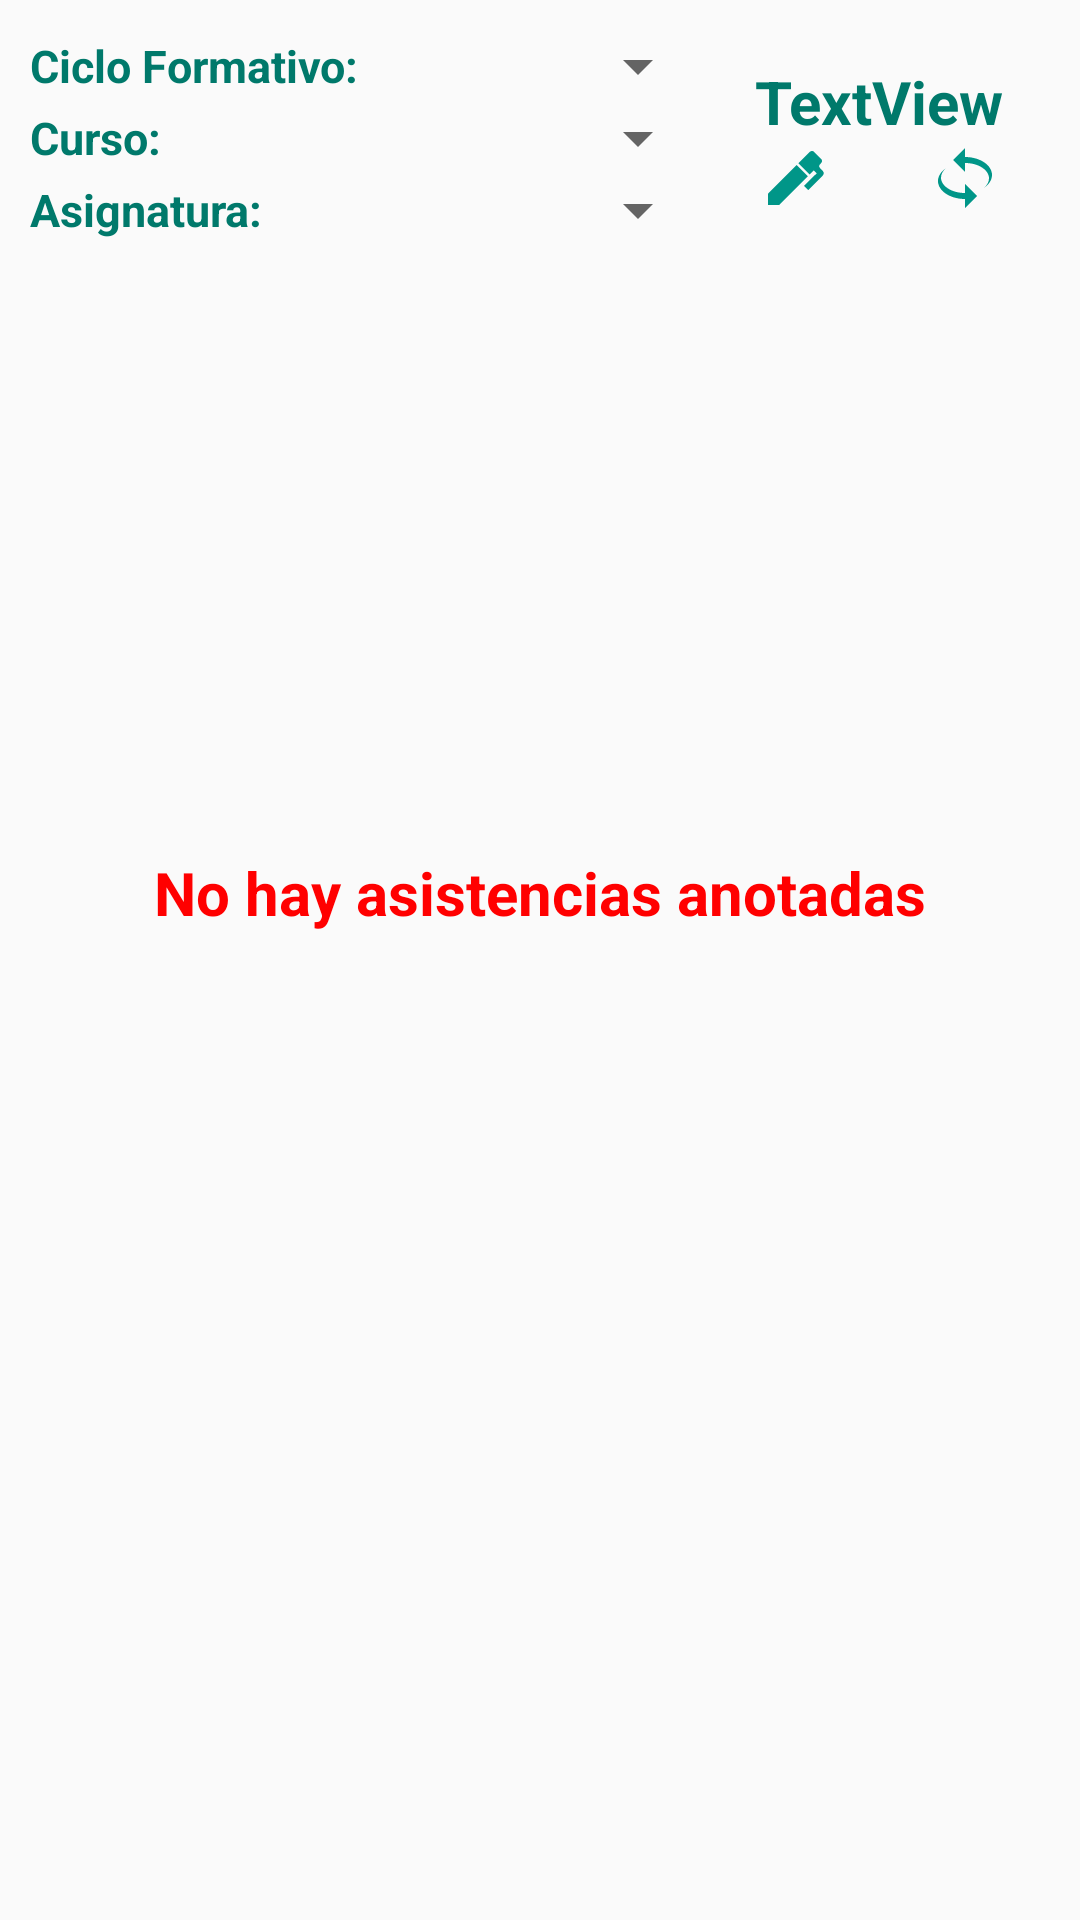

Point at icon controls on the screen. Image size 1080×1920, points as (x,y).
pen: (796,178)
reload: (965,178)
